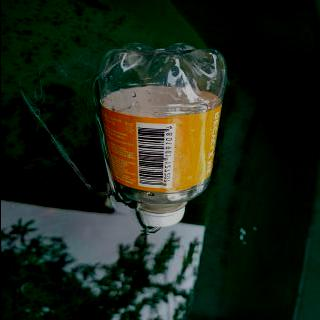bottle: (94, 41, 230, 230)
